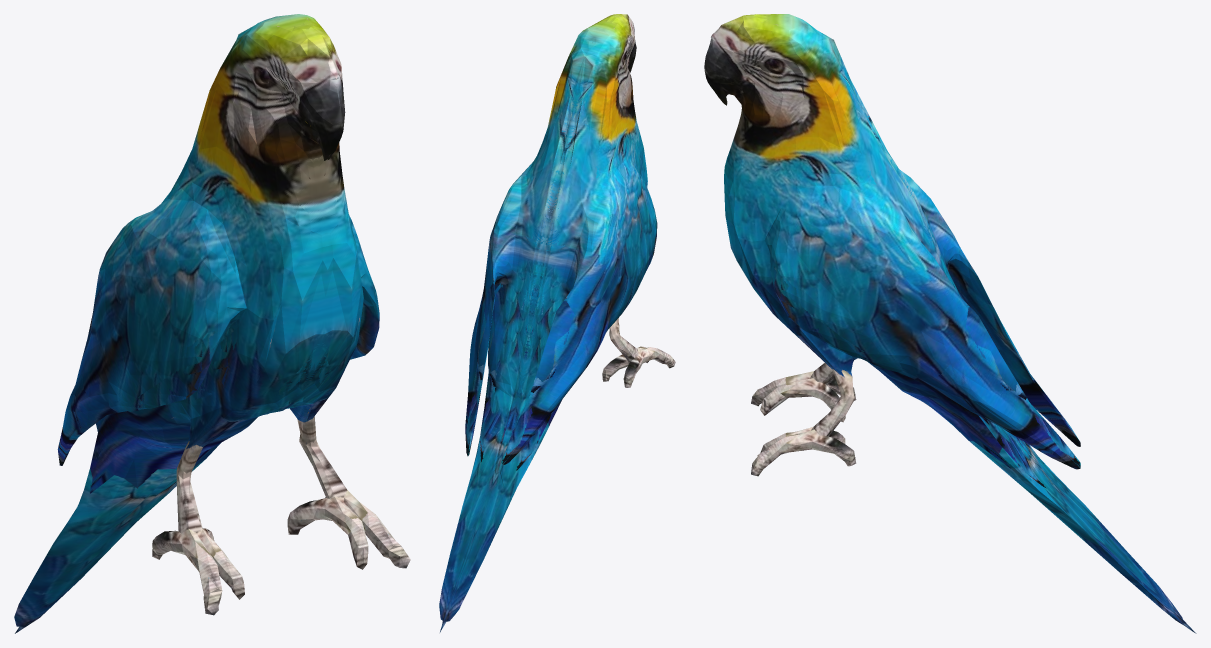
Rendered from Macaw.fbx.
The picture shows the model from 3 angles, left to right: view 1: azimuth 30°, elevation 25°; view 2: azimuth 150°, elevation 25°; view 3: azimuth 270°, elevation 25°; orthographic projection. The views are drawn at different scales.
Visible parts, largest first — view 1: Parrot; view 2: Parrot; view 3: Parrot.
Boxes of the visible parts, left/top/right/bottom form: Parrot: left=14, top=14, right=410, bottom=633; Parrot: left=439, top=14, right=675, bottom=632; Parrot: left=704, top=14, right=1196, bottom=633.
Bounding box in the file's own units: 161 × 619 × 447.
1 material, 1 textured.
